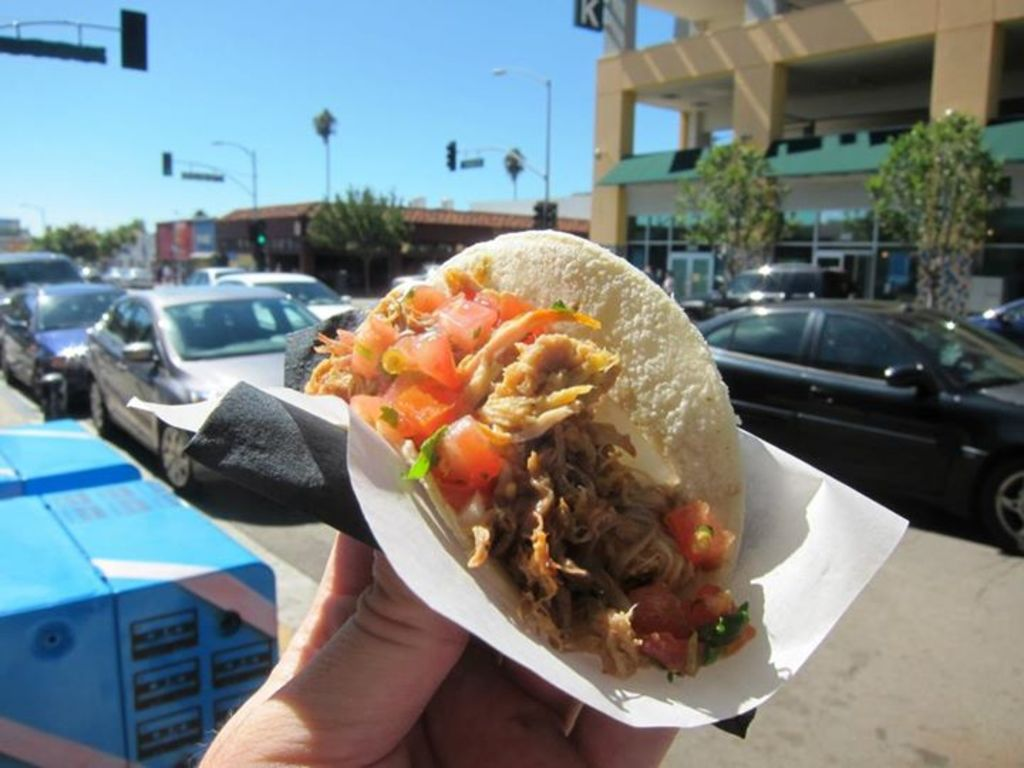taco: (343, 245, 774, 708)
